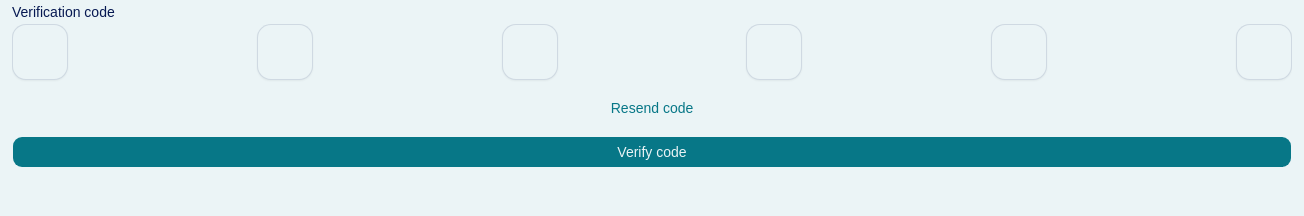
VerifyResetOtpForm › rejects invalid otp format before mutation
Step 1. Type "1" into the field named "Verification code digit 1" → [40, 52], box 12,24 -> 68,80
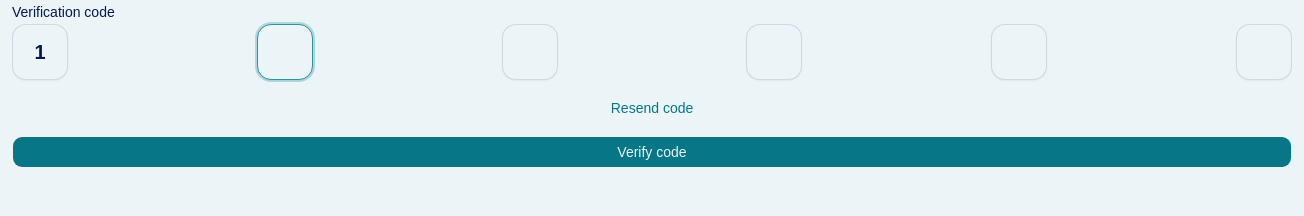
Step 2. Click the button "Verify code" → [652, 152], box 12,136 -> 1292,168
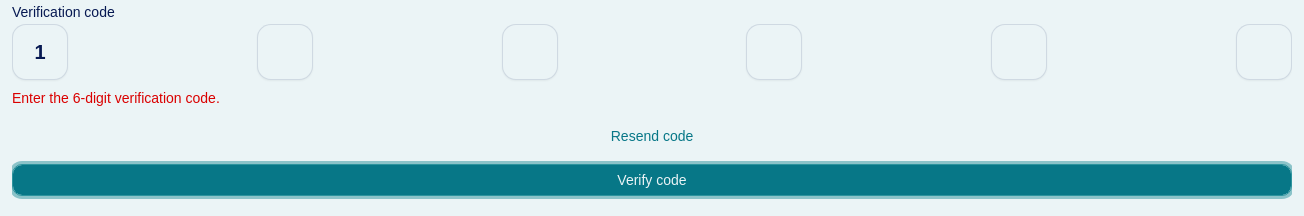
Result: the text "Enter the 6-digit verification code." is shown at 12,90 -> 220,106
